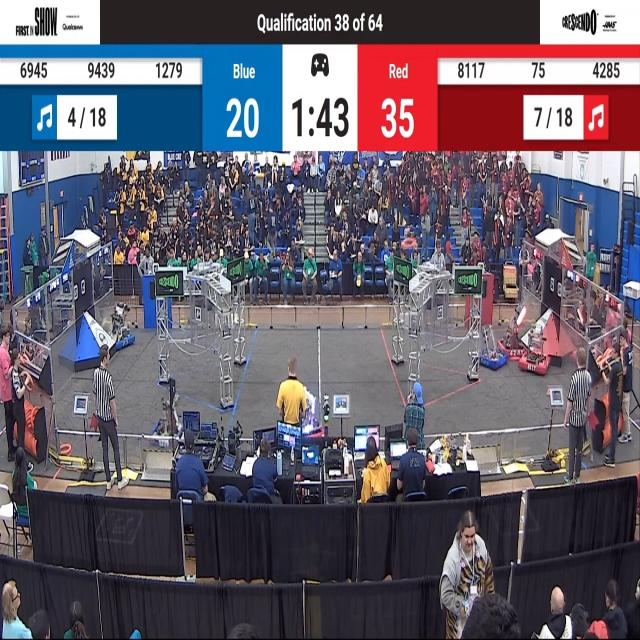Robot: (149, 388, 184, 454), (517, 317, 551, 380), (294, 385, 326, 443), (499, 295, 526, 360), (110, 301, 137, 356), (478, 322, 506, 374)
